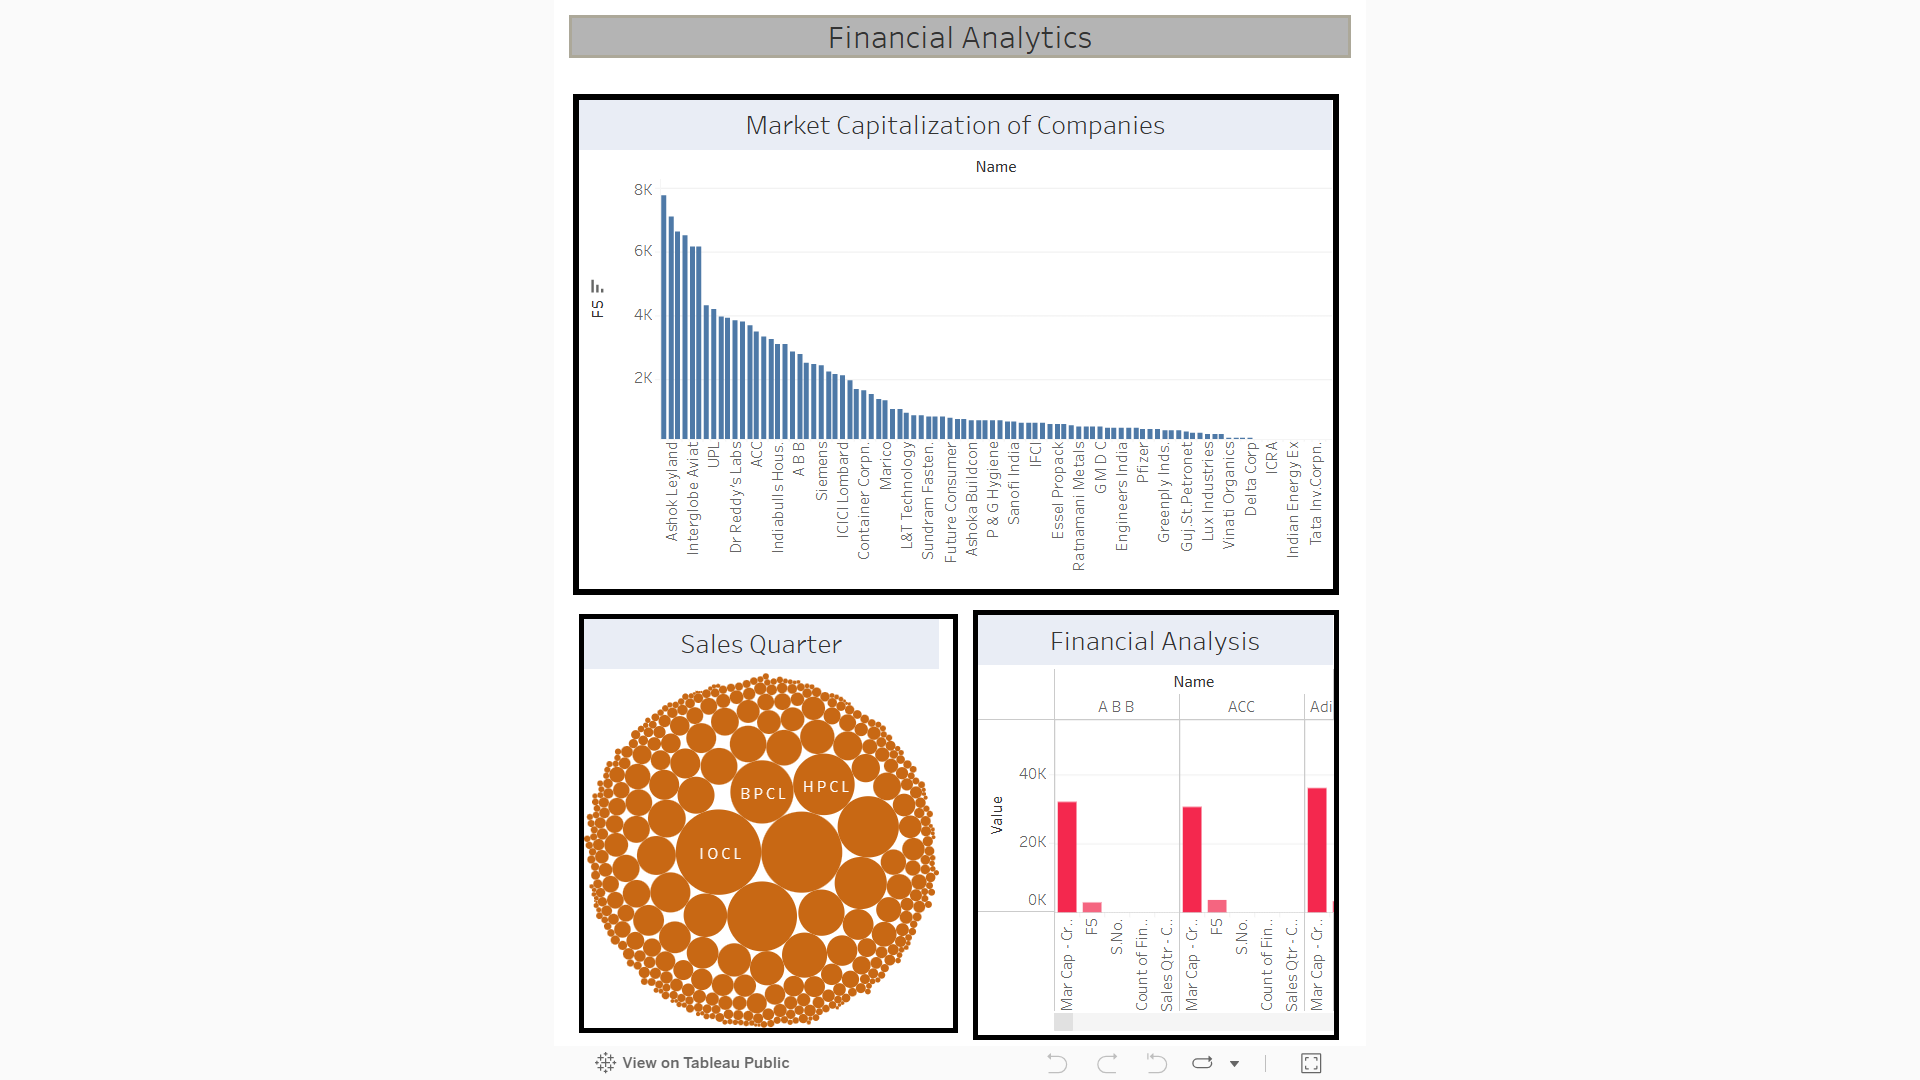

This screenshot's page, from the dashboard's own definition file:
{"tool":"tableau","page":{"name":"Dashboard 1","canvas":[650,860],"ordinal":0},"visuals":[{"type":"title","box":[8,8,634,50]},{"type":"worksheet","title":"Sheet 1","mark":"Automatic","rows":["F5"],"cols":["Name"],"box":[15,76.7,613,412.8]},{"type":"worksheet","title":"Sheet 3","mark":"Automatic","cols":["Name"],"box":[335,501.7,293,353.3]},{"type":"worksheet","title":"Sheet 2","mark":"Circle","box":[20,504.7,303,344.2]}]}

Visuals, with their boxes in screenshot pixels (x1, y1, x2, y2):
title: bbox(560, 0, 1345, 57)
"Sheet 1" worksheet: bbox(569, 80, 1328, 591)
"Sheet 3" worksheet: bbox(965, 606, 1328, 1044)
"Sheet 2" worksheet (Circle marks): bbox(575, 610, 950, 1036)
